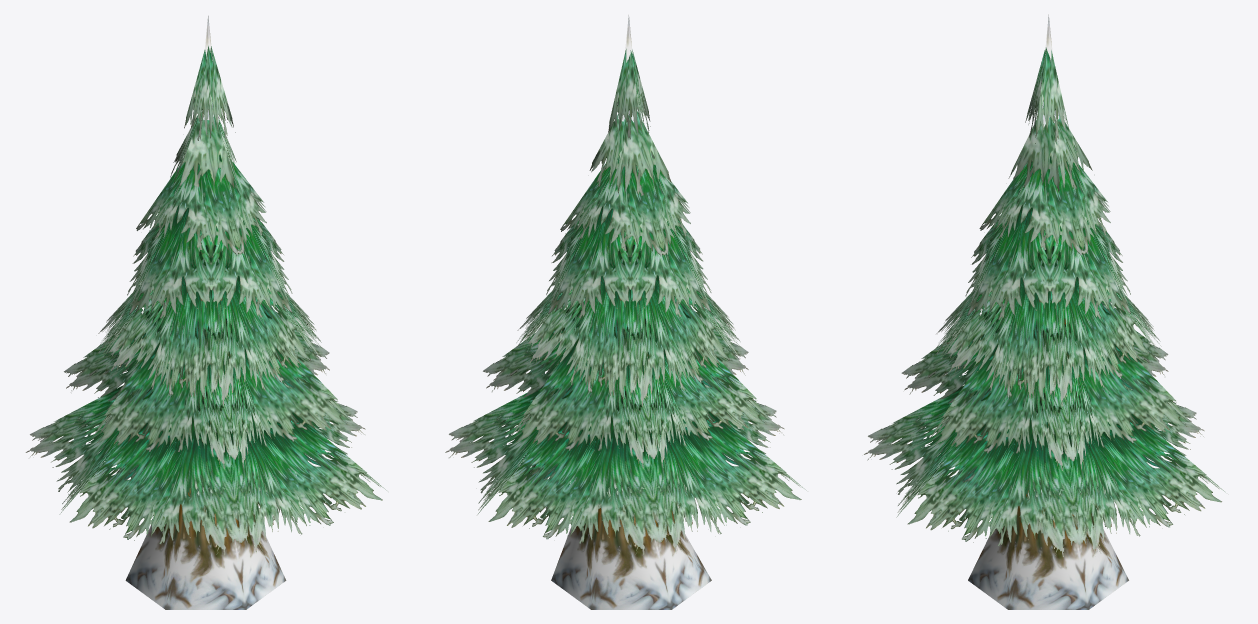
The model's file is ironforgetree02.obj.
3 views of the same model, side by side, from view 1: azimuth 30°, elevation 25°; view 2: azimuth 150°, elevation 25°; view 3: azimuth 270°, elevation 25° (orthographic).
Parts seen in each view (by area): view 1: Geoset0, Geoset1; view 2: Geoset0, Geoset1; view 3: Geoset0, Geoset1.
Boxes of the visible parts, <box> form: Geoset0: <box>25,46,386,554</box>; Geoset1: <box>125,15,286,609</box>; Geoset0: <box>445,49,806,554</box>; Geoset1: <box>551,15,711,609</box>; Geoset0: <box>864,47,1225,556</box>; Geoset1: <box>968,14,1128,609</box>.
Size of the model in its own units: 27.16 by 41.22 by 25.8.
2 materials, 2 textured.
